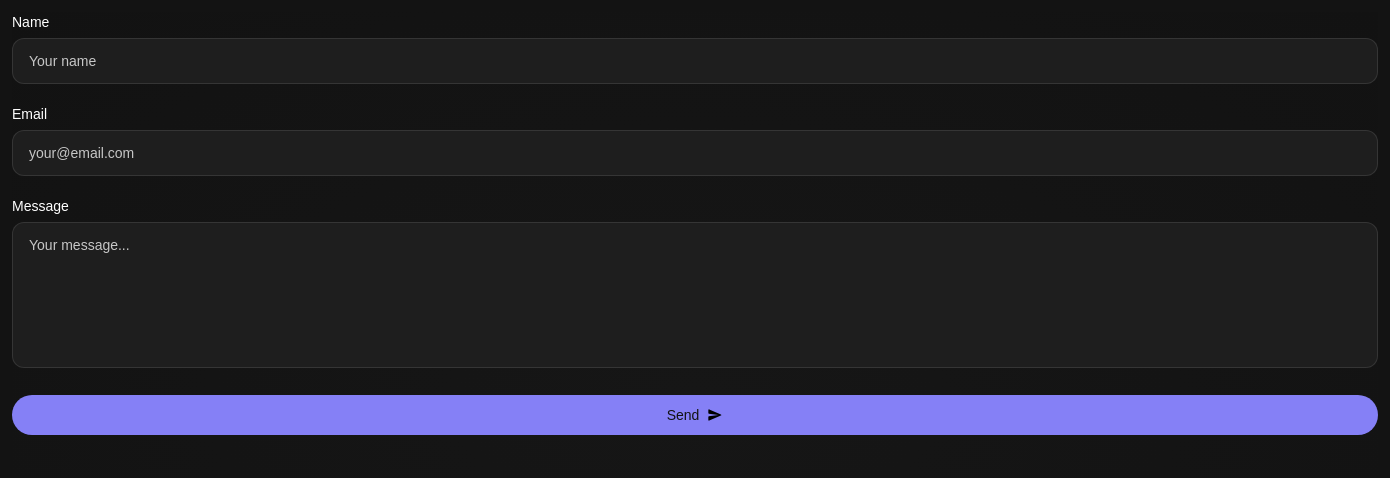
Scenario: ContactForm in en › reports an invalid email in the current language
Type "Alex Martin" into the field labelled "Name" at x=695, y=61, box [12,38,1378,84]
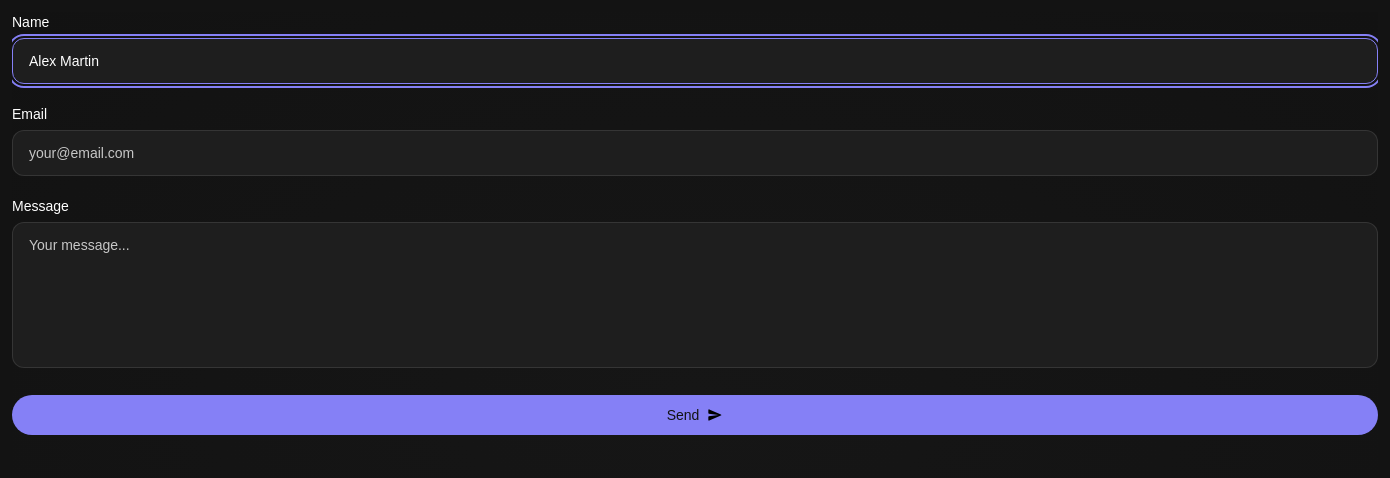
Type "alex@invalide" into the field labelled "Email" at x=695, y=153, box [12,130,1378,176]
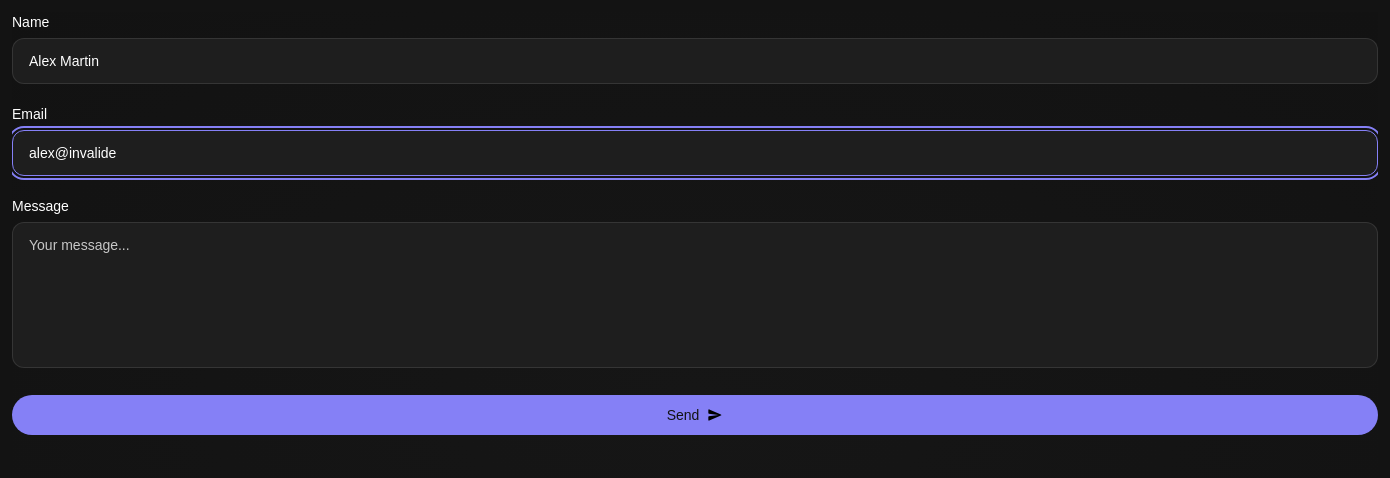
Type "Un message assez long." into the text box labelled "Message" at x=695, y=295, box [12,222,1378,368]
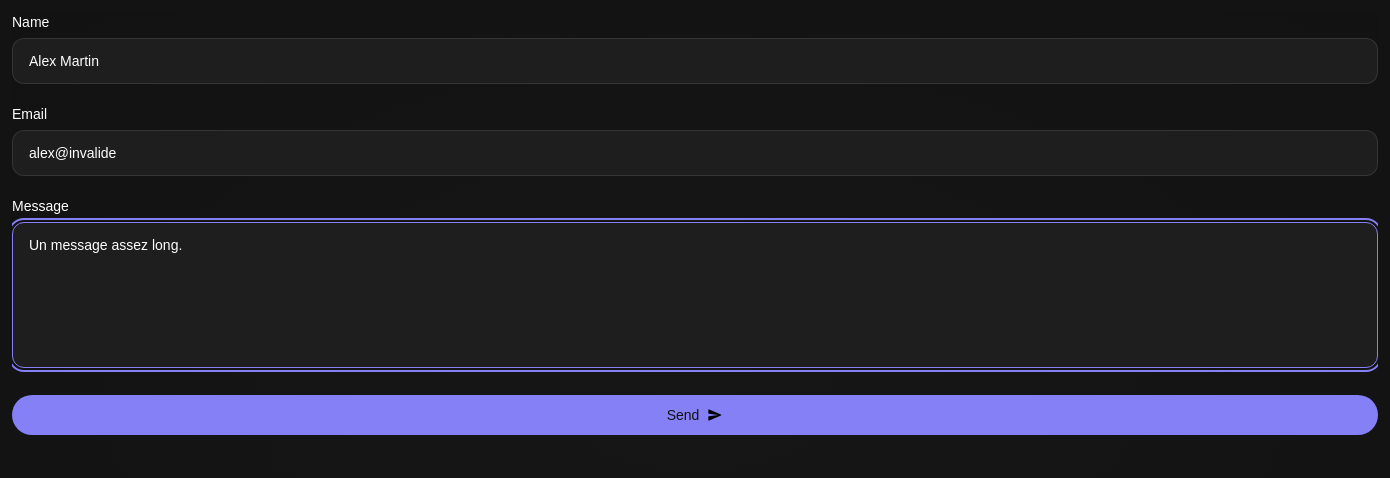
Click the button "Send" at x=695, y=415, box [12,395,1378,435]
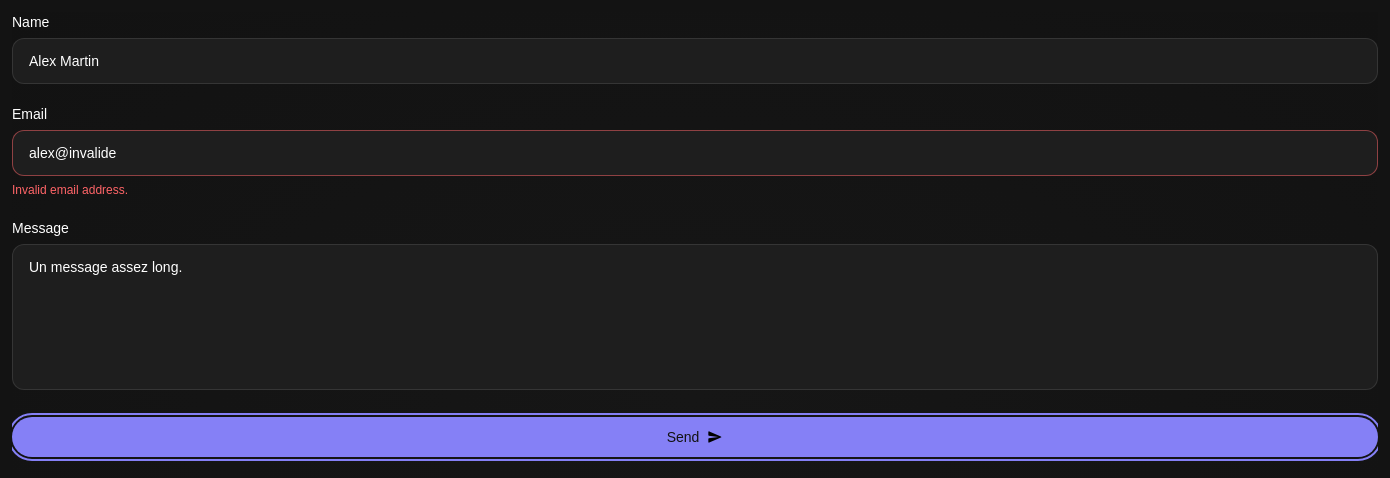
Expected: the text "Invalid email address." is shown, [12,183,128,197]
